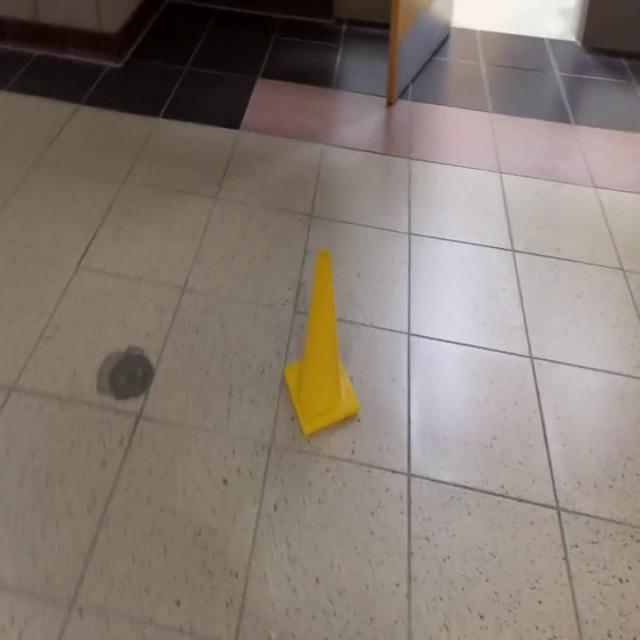frc_cone: (282, 248, 358, 438)
